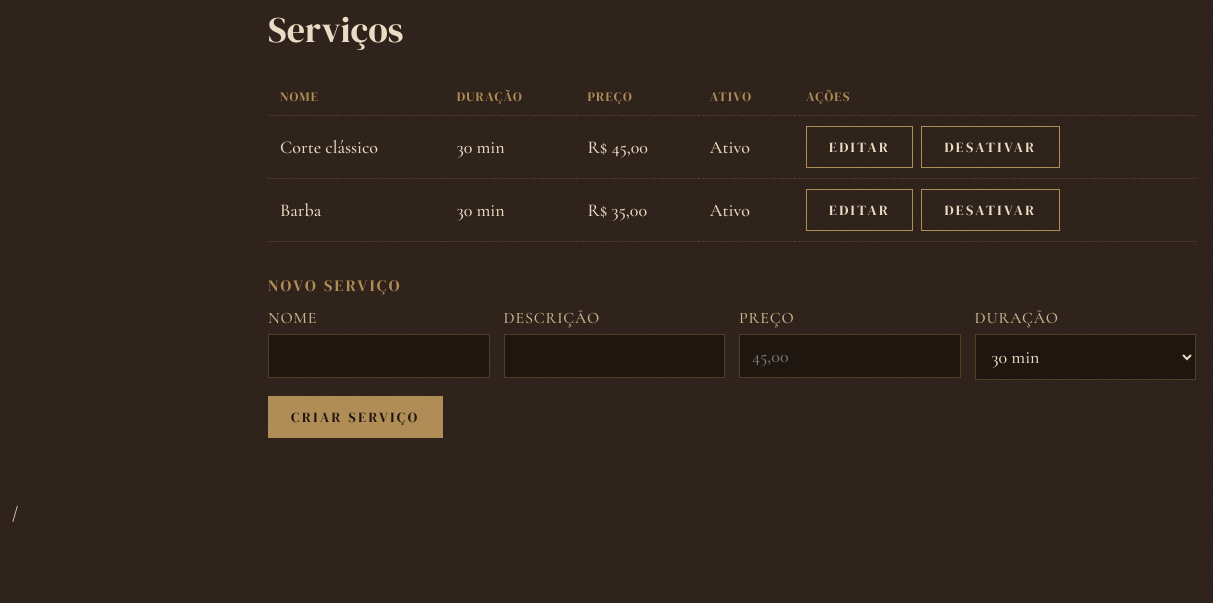
Admin Services › blocks invalid price client-side
Expected: the cell "Corte clássico" is shown, [268,116,445,178]
Type "Pezinho" into the field labelled "Nome".
click(379, 356); type("Pezinho")  # box [268,334,490,378]
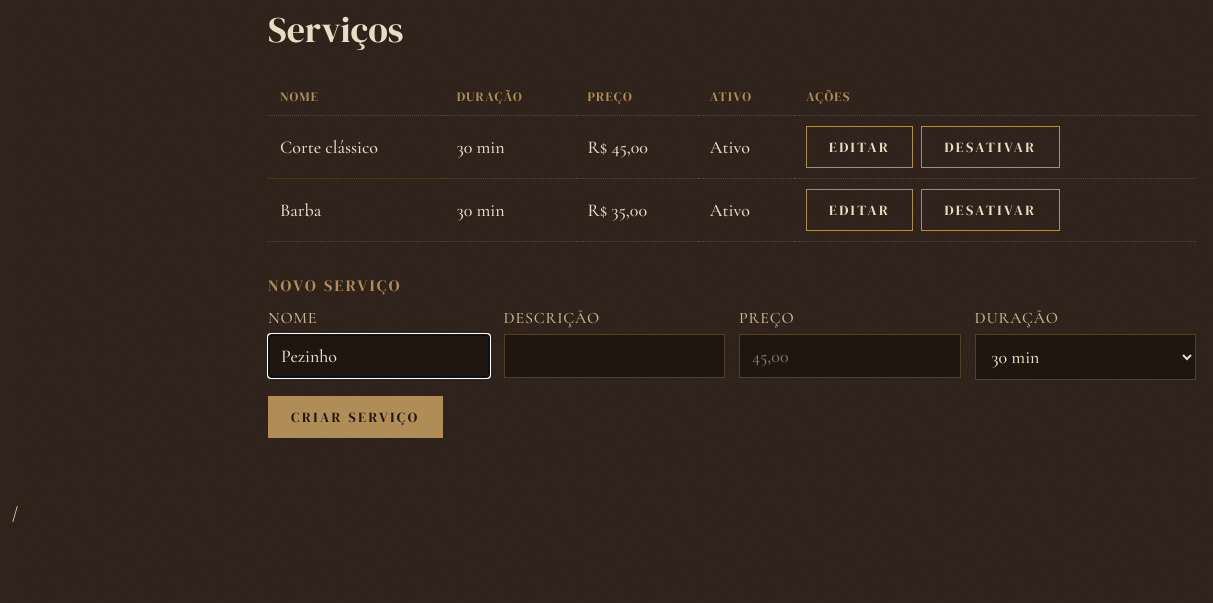
Type "abc" into the field labelled "Preço".
click(850, 356); type("abc")  # box [739,334,960,378]
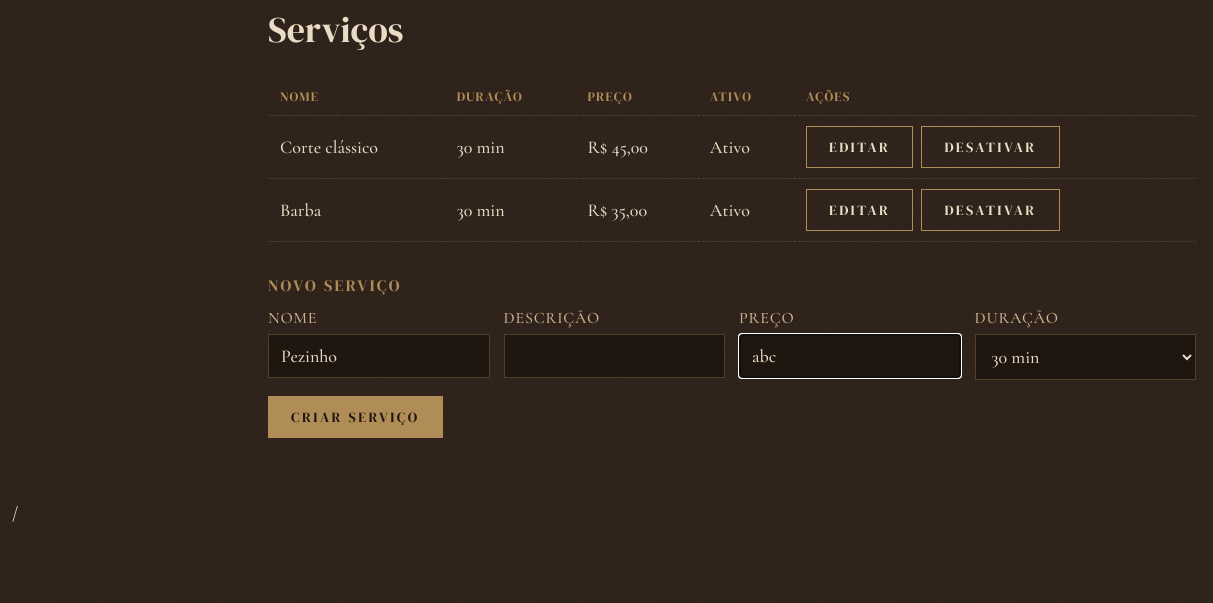
Click the button "Criar serviço".
click(355, 417)  # box [268,396,443,438]
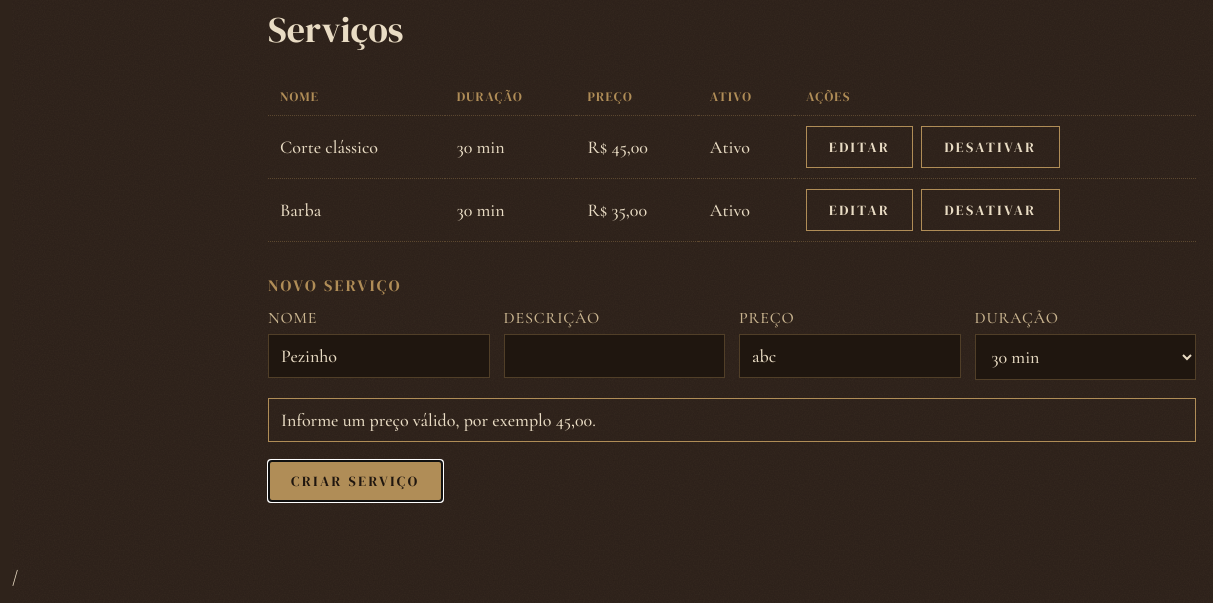
Now the text "Informe um preço válido, por exemplo 45,00." is shown, box [268,398,1196,442]
